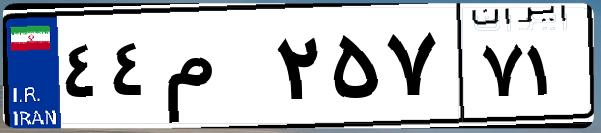1: (525, 38, 570, 115)
2: (270, 28, 330, 110)
4: (57, 26, 110, 100), (110, 28, 158, 98)
5: (330, 28, 385, 110)
7: (385, 28, 445, 110), (475, 38, 525, 113)
م: (158, 20, 270, 120)
